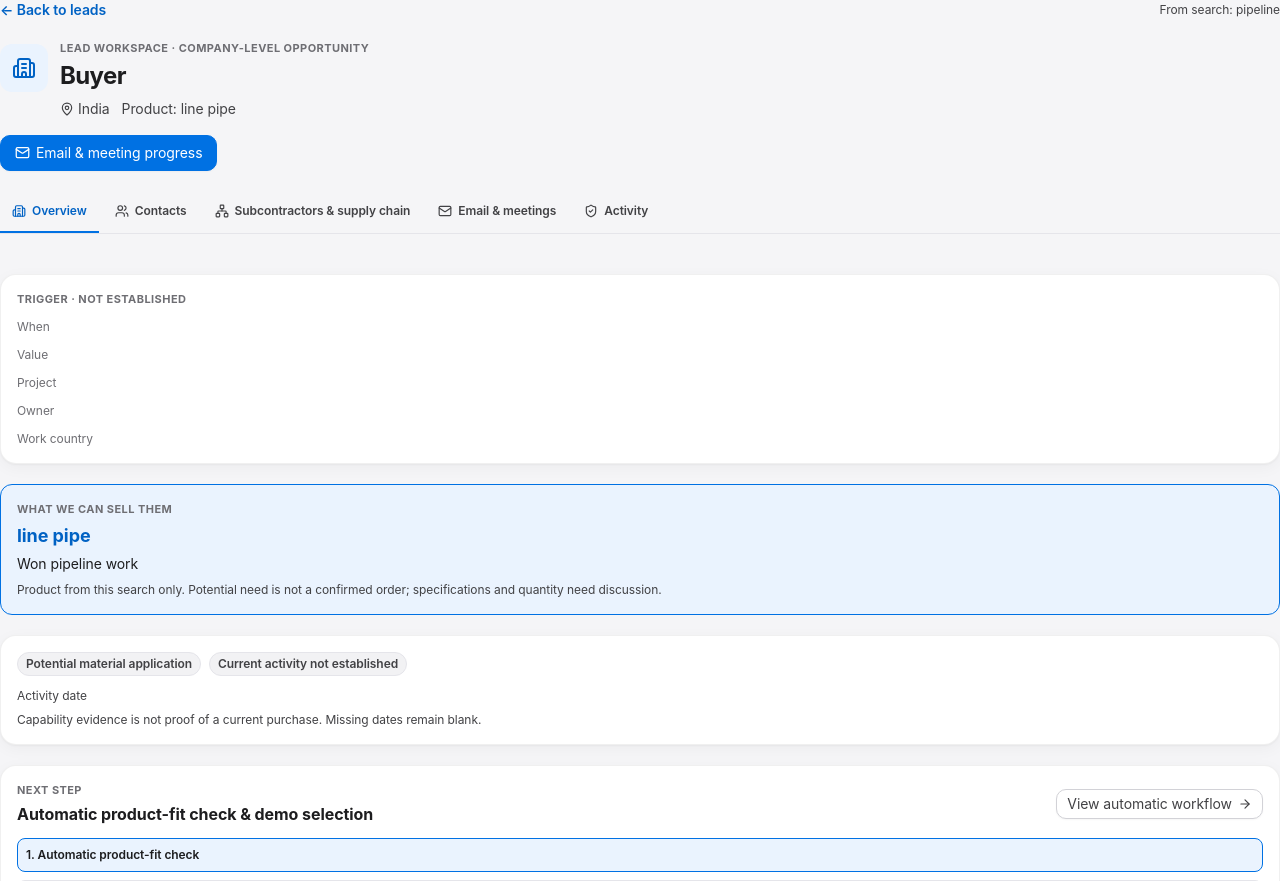
Scenario: guided workspace › guides reviewed prospect demos to conversation without requiring missing personal contact data
The width and height of the screenshot is (1280, 881).
Click the button "View automatic workflow" at [1160, 804], box [1056,789,1263,819]
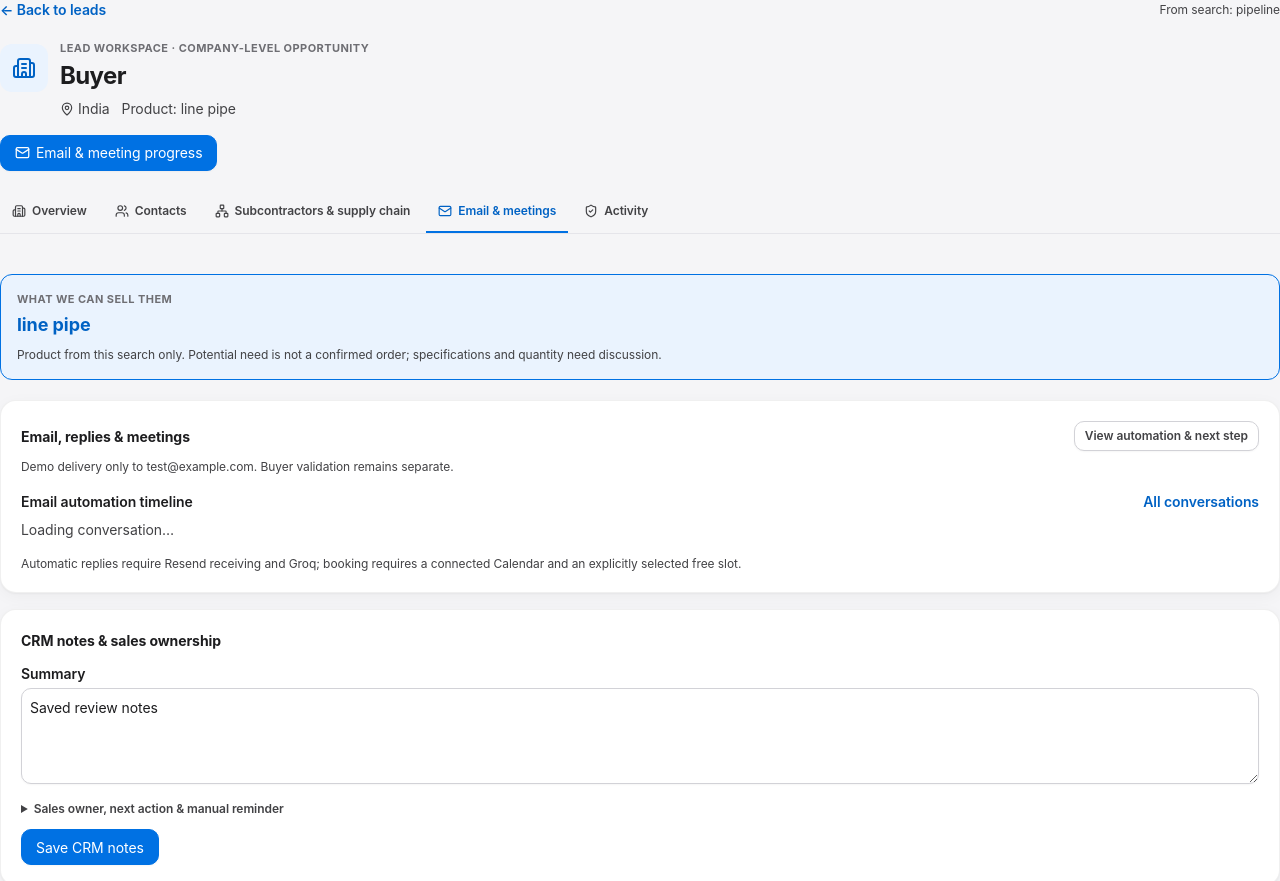
Now the tab "Email & meetings" is selected, box [426,190,568,232]
Click the tab "Overview" at [49, 212], box [0,190,99,232]
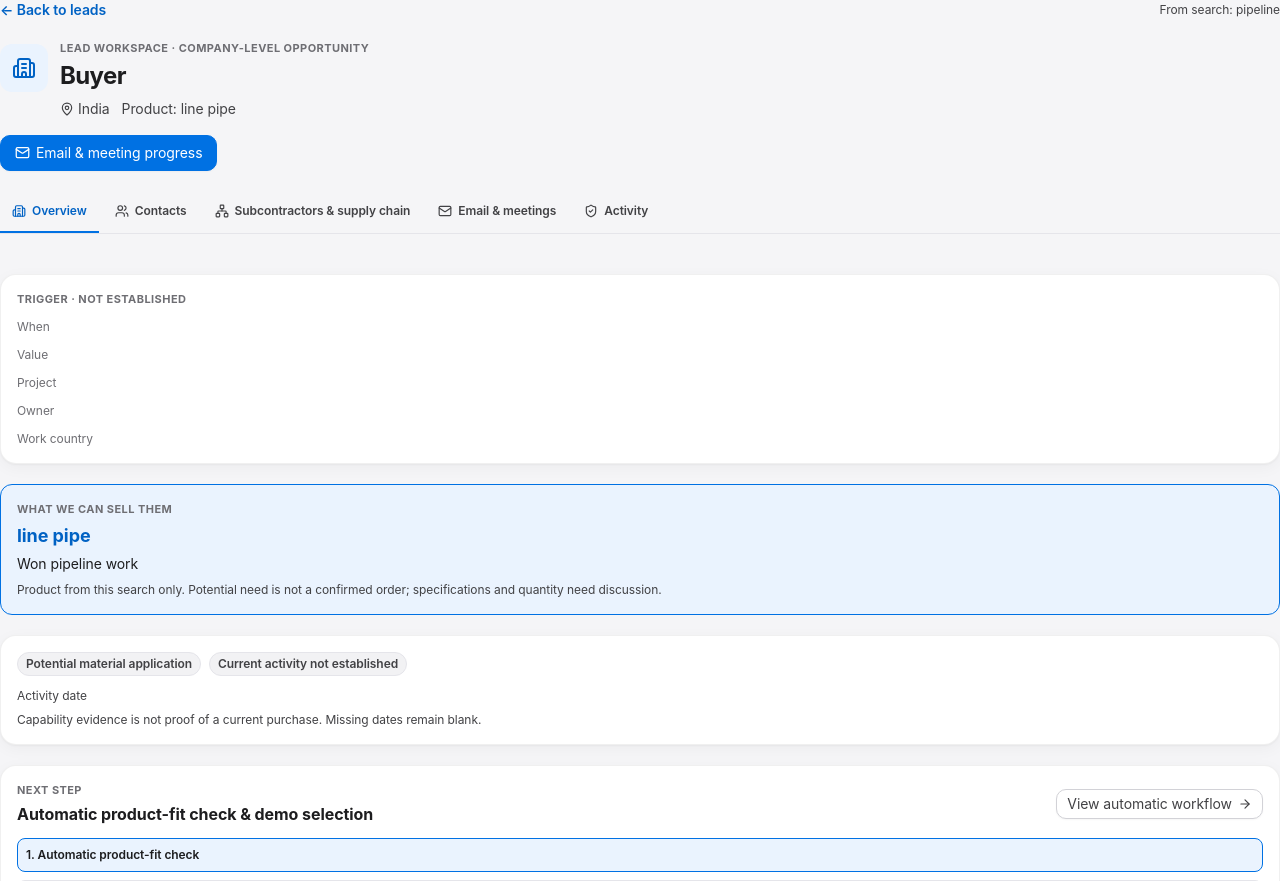
Now the element named "Material fit and current activity" is shown, box [0,634,1279,744]
